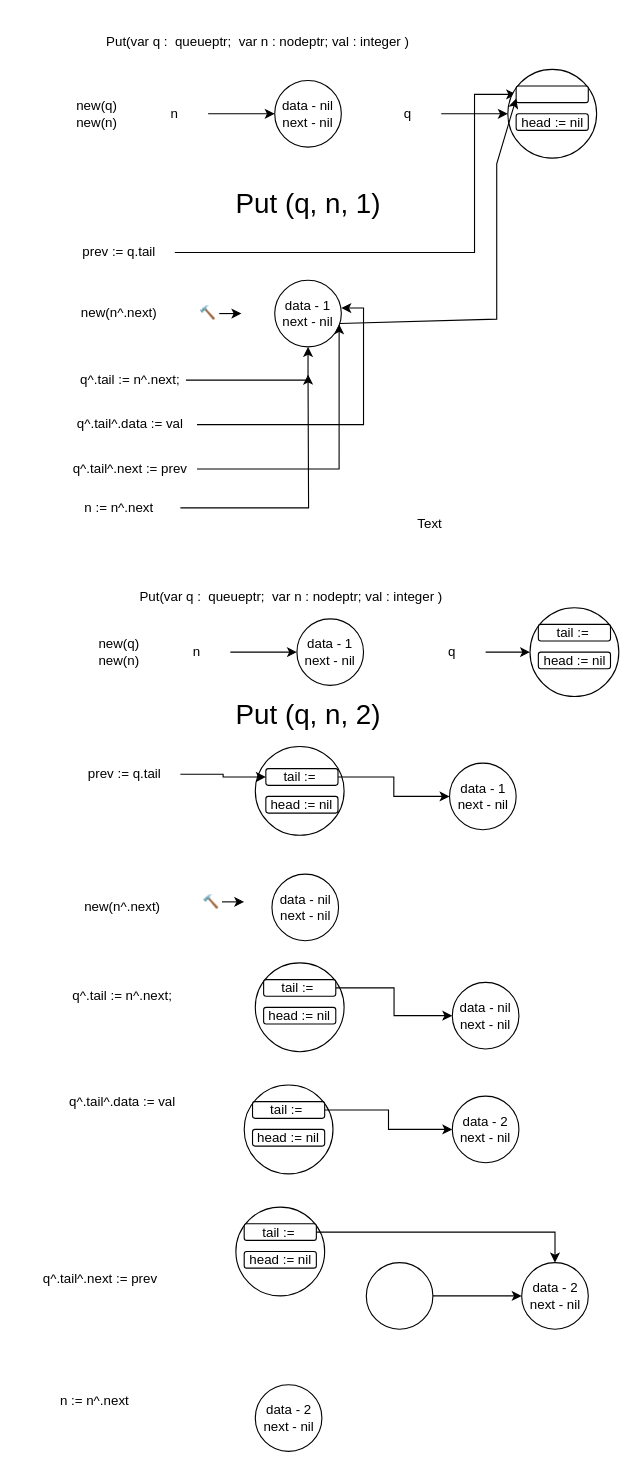
Image size: 638x1471. Some labels were removed from this diagram. The shapes that lost their labels are listed below. From the top down, each one's centre as x and y in pixels, then its label:
At point 551,94: "tail := nil".
At point 399,1295: "data - 1 next -".
